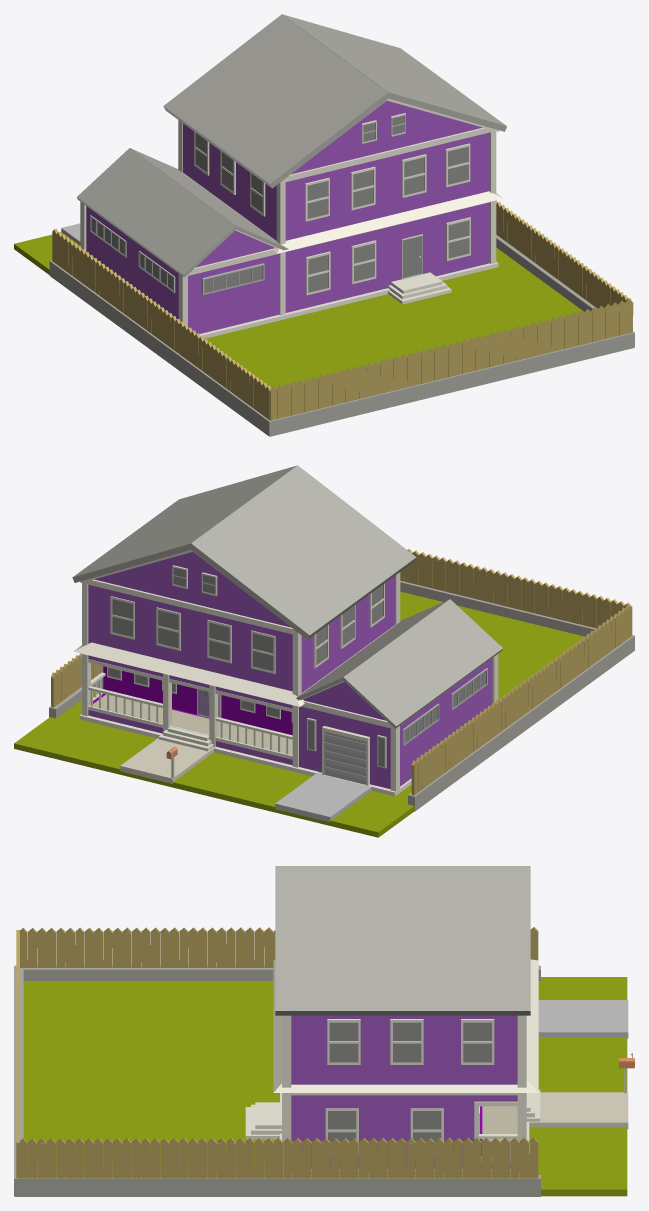
The model's file is house9.fbx.
3 views of the same model, one above another, from view 1: azimuth 30°, elevation 25°; view 2: azimuth 150°, elevation 25°; view 3: azimuth 270°, elevation 25° (orthographic). The views are drawn at different scales.
Parts seen in each view (by area): view 1: Cube_27; view 2: Cube_27; view 3: Cube_27.
Part boxes in pixels (left/top/right/bottom): Cube_27: left=14, top=14, right=634, bottom=436; Cube_27: left=14, top=465, right=634, bottom=837; Cube_27: left=14, top=866, right=634, bottom=1196.
Bounding box in the file's own units: 2228 × 1219 × 2738.
